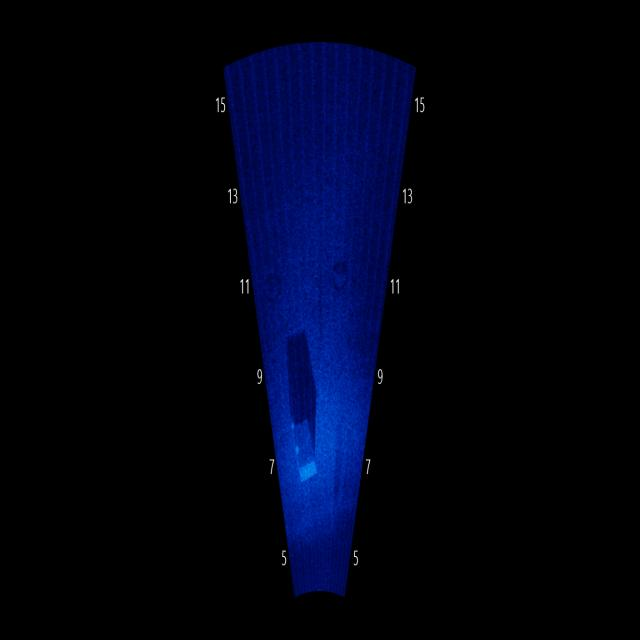square: (283, 404, 326, 493)
